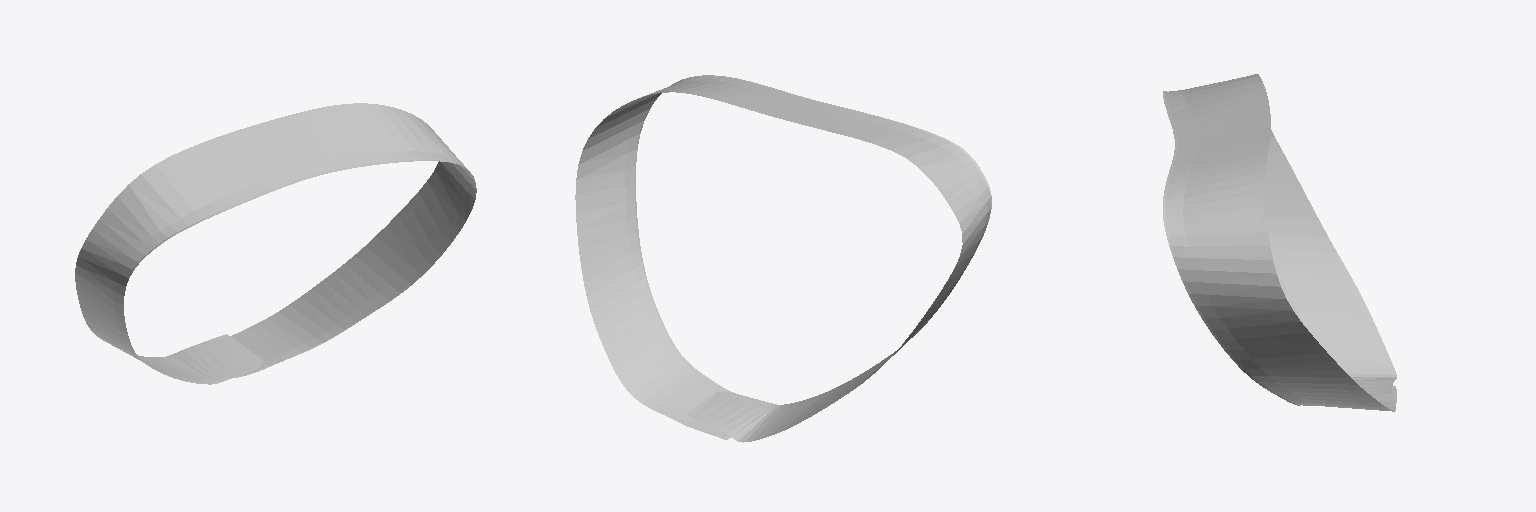
File: fix_inner_collar.obj
3 views of the same model, side by side, from view 1: azimuth 30°, elevation 25°; view 2: azimuth 150°, elevation 25°; view 3: azimuth 270°, elevation 25° (orthographic).
Visible parts, largest first — view 1: lll; view 2: lll; view 3: lll.
Boxes of the visible parts, x1=… form: lll: x1=75, y1=103, x2=476, y2=384; lll: x1=575, y1=75, x2=991, y2=442; lll: x1=1163, y1=74, x2=1396, y2=411.
Bounding box in the file's own units: 16.05 × 11.34 × 8.75.